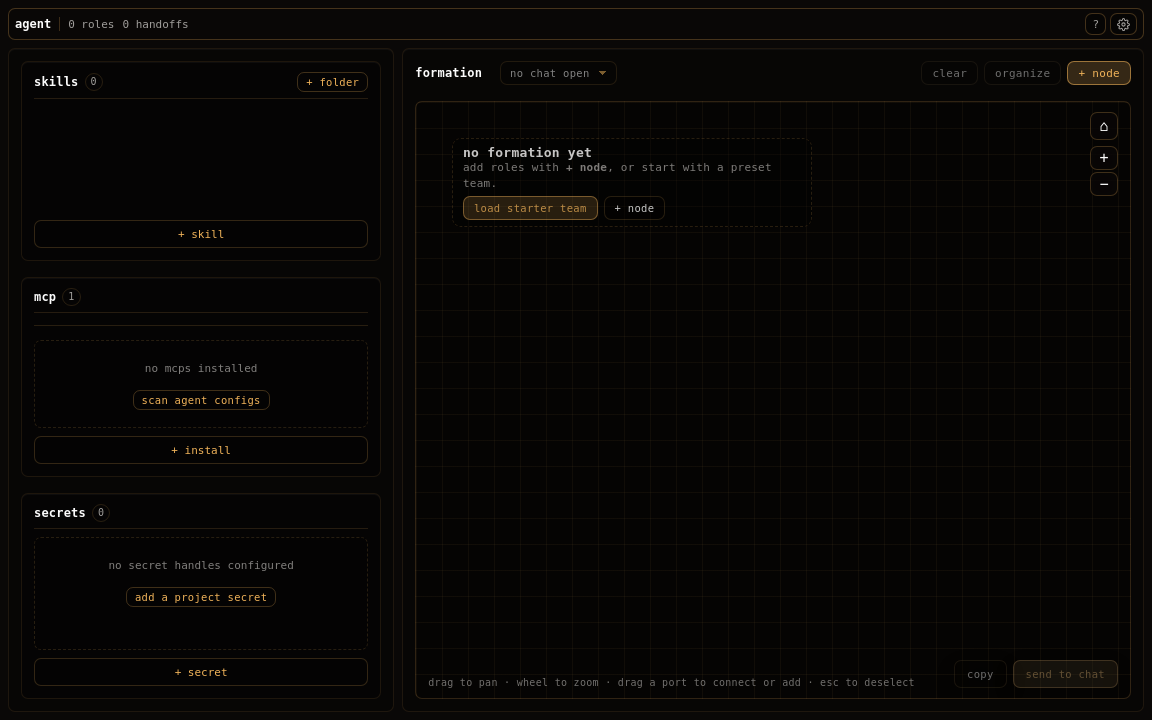
AgentPanel integration › builtin_templates_can_be_edited_from_the_node_picker
Click the 1st button "+ node": x=1099, y=73 [1068,61,1131,85]
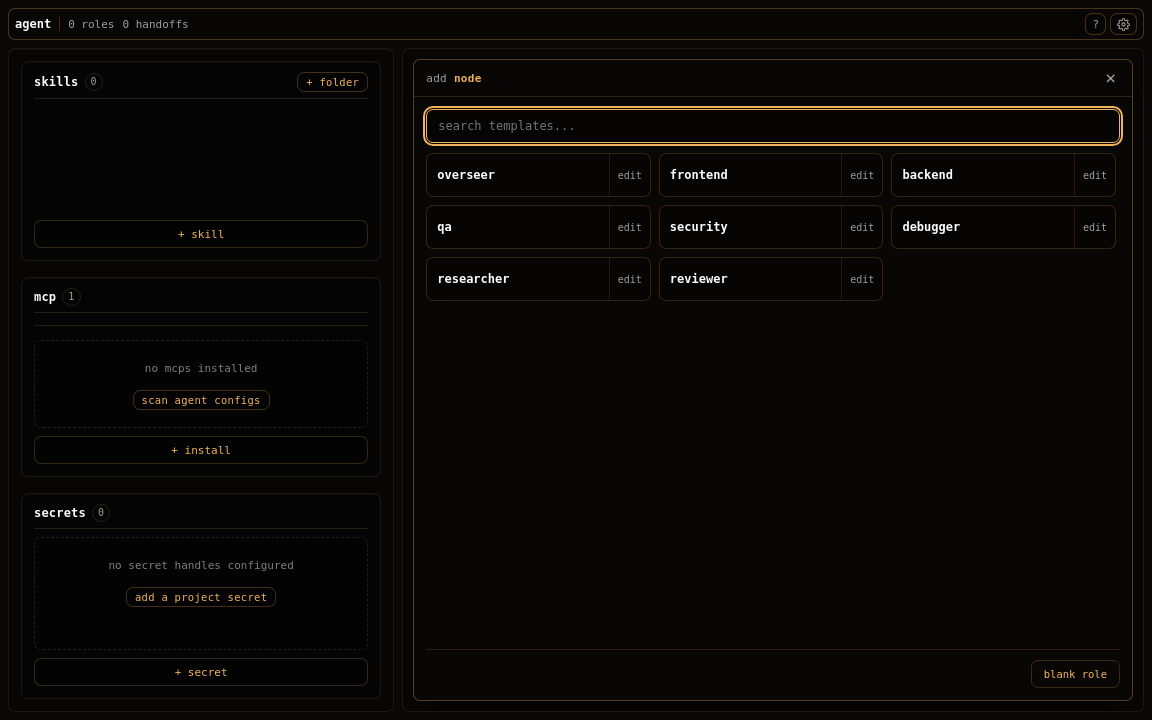
Result: the element "frontend edit" is shown at [659,153,883,197]
Click the button with aria-label "edit template": x=862, y=175 [842,154,882,196]
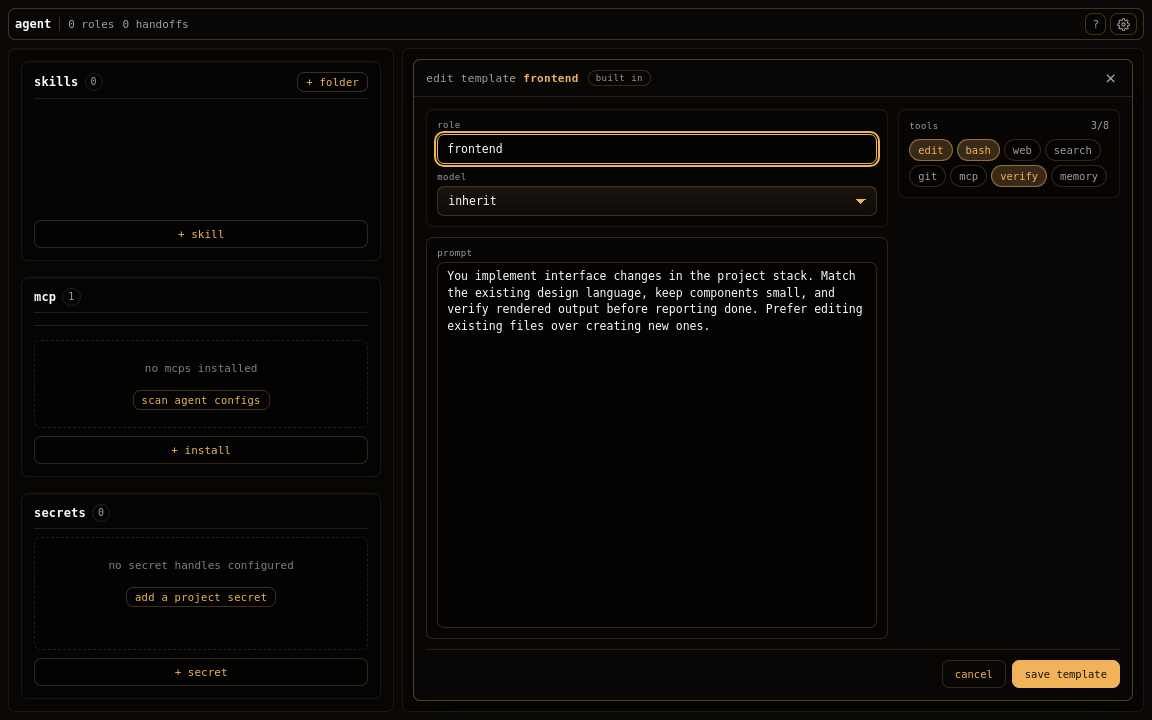
Replace the text in the field showing "frontend" with "ui builder": x=657, y=149 [437,134,877,164]
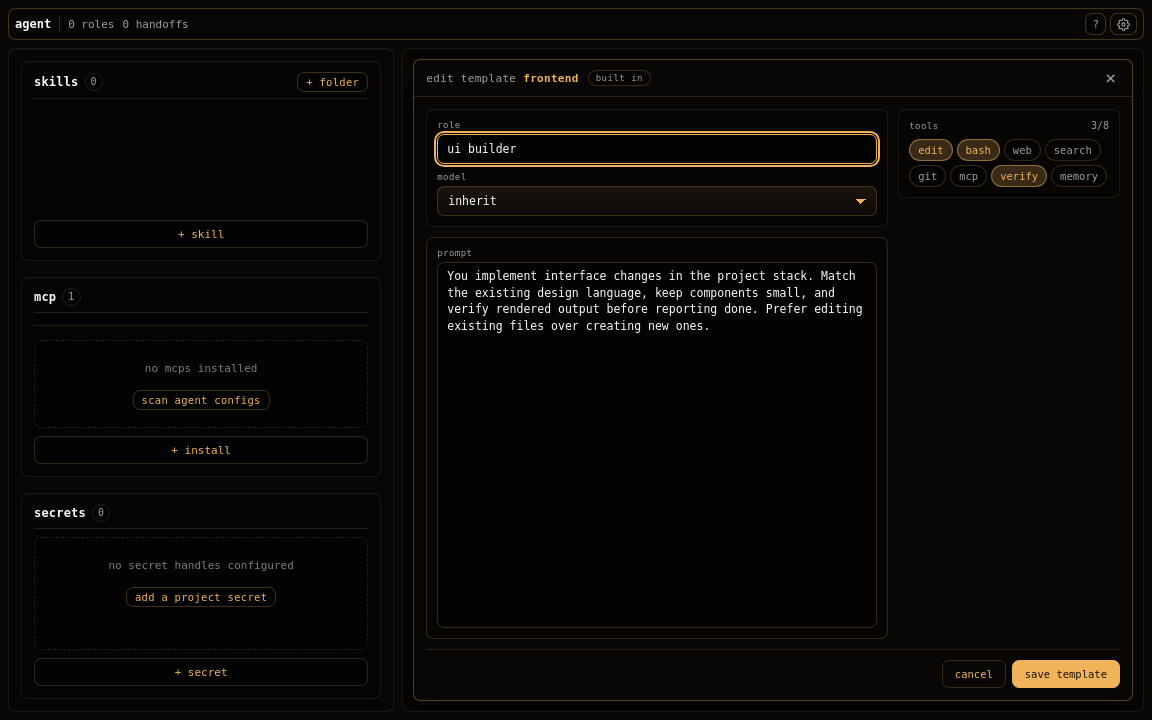
Click the button "save template": x=1066, y=674 [1012,660,1120,688]
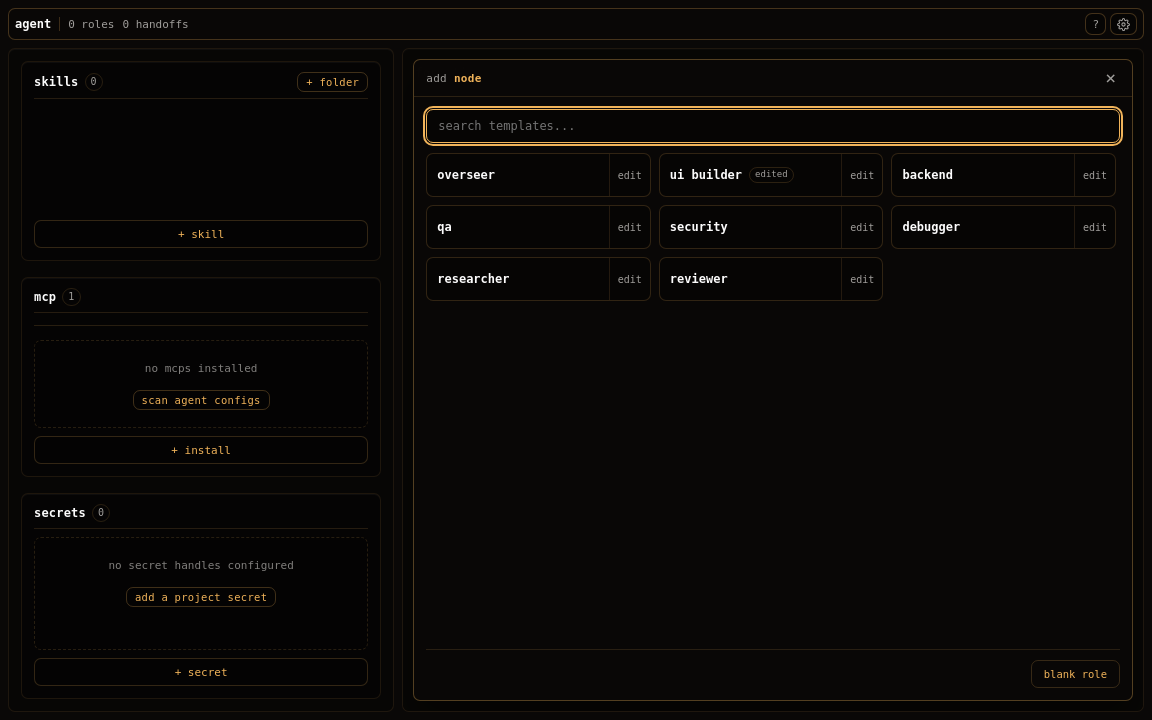
Result: the button "ui builder edited" is shown at [660,154,841,196]
